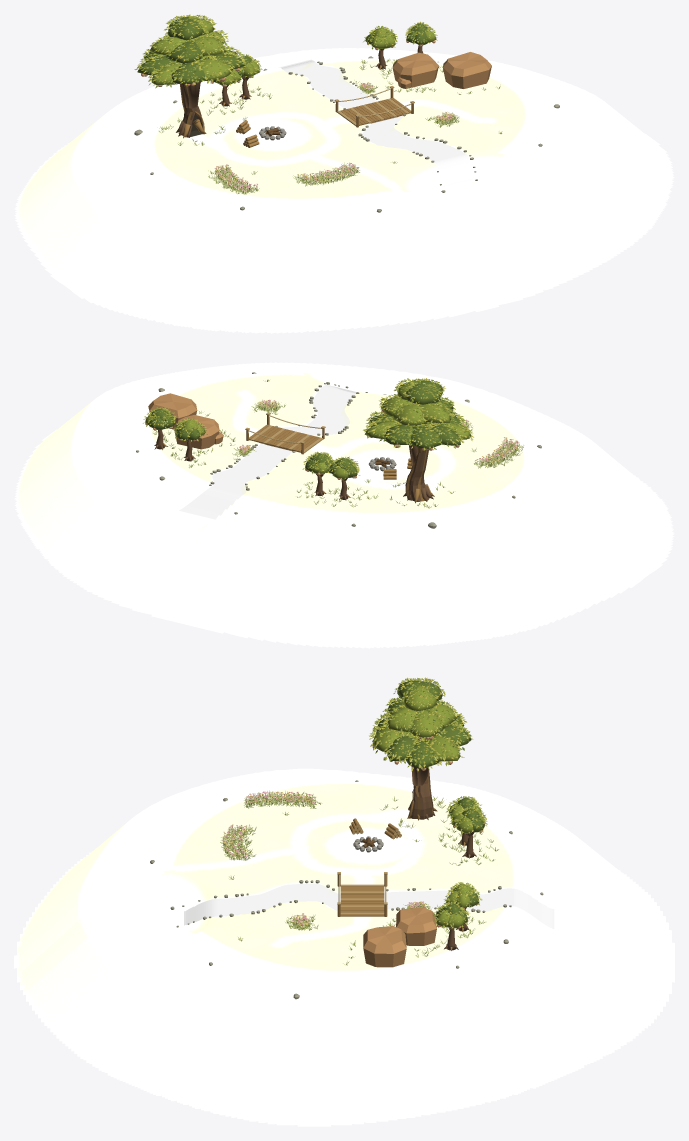
The model's file is ecology-coastal-v2.glb.
3 views of the same model, one above another, from view 1: azimuth 30°, elevation 25°; view 2: azimuth 150°, elevation 25°; view 3: azimuth 270°, elevation 25° (orthographic). The views are drawn at different scales.
Visible parts, largest first — view 1: Coast / continuous turf sand submerged shelf, Water / stream and waterfalls, Landmarks / warm resting rocks, Flora_hero-fruit-tree_leaf, Flora_hero-fruit-tree_leaf_dark, Flora_hero-fruit-tree_leaf_light, Bridge / honey timber deck, Flora_Sparse_Understory_grass, Flora_hero-fruit-tree_leaf_sun, Flora_hero-fruit-tree_bark, Details / creek stones and beach pebbles; view 2: Coast / continuous turf sand submerged shelf, Water / stream and waterfalls, Flora_hero-fruit-tree_leaf, Flora_hero-fruit-tree_leaf_dark, Landmarks / warm resting rocks, Flora_hero-fruit-tree_leaf_light, Bridge / honey timber deck, Flora_hero-fruit-tree_bark, Flora_hero-fruit-tree_leaf_sun, Flora_Sparse_Understory_grass, Details / creek stones and beach pebbles, Bridge / warm worn plank edges; view 3: Coast / continuous turf sand submerged shelf, Water / stream and waterfalls, Flora_hero-fruit-tree_leaf, Landmarks / warm resting rocks, Flora_hero-fruit-tree_leaf_dark, Flora_hero-fruit-tree_leaf_light, Bridge / honey timber deck, Flora_hero-fruit-tree_leaf_sun, Flora_Sparse_Understory_grass, Flora_hero-fruit-tree_bark.
Boxes of the visible parts, x1,y1,x2,y2 form: Coast / continuous turf sand submerged shelf: (14, 48, 674, 333); Water / stream and waterfalls: (280, 60, 473, 186); Landmarks / warm resting rocks: (392, 52, 491, 88); Flora_hero-fruit-tree_leaf: (137, 14, 245, 88); Flora_hero-fruit-tree_leaf_dark: (137, 16, 244, 85); Flora_hero-fruit-tree_leaf_light: (134, 15, 245, 86); Bridge / honey timber deck: (340, 97, 411, 125); Flora_Sparse_Understory_grass: (159, 59, 502, 193); Flora_hero-fruit-tree_leaf_sun: (137, 15, 245, 85); Flora_hero-fruit-tree_bark: (176, 81, 202, 137); Details / creek stones and beach pebbles: (134, 56, 559, 212); Coast / continuous turf sand submerged shelf: (14, 362, 674, 648); Water / stream and waterfalls: (179, 385, 356, 519); Flora_hero-fruit-tree_leaf: (364, 379, 473, 449); Flora_hero-fruit-tree_leaf_dark: (369, 380, 472, 448); Landmarks / warm resting rocks: (148, 393, 223, 449); Flora_hero-fruit-tree_leaf_light: (363, 378, 472, 450); Bridge / honey timber deck: (249, 424, 319, 452); Flora_hero-fruit-tree_bark: (403, 425, 433, 501); Flora_hero-fruit-tree_leaf_sun: (363, 378, 473, 448); Flora_Sparse_Understory_grass: (153, 379, 523, 508); Details / creek stones and beach pebbles: (136, 372, 541, 528); Bridge / warm worn plank edges: (245, 412, 325, 453); Coast / continuous turf sand submerged shelf: (14, 768, 674, 1126); Water / stream and waterfalls: (184, 884, 553, 928); Flora_hero-fruit-tree_leaf: (372, 678, 470, 769); Landmarks / warm resting rocks: (363, 907, 436, 967); Flora_hero-fruit-tree_leaf_dark: (372, 679, 471, 768); Flora_hero-fruit-tree_leaf_light: (369, 677, 471, 769); Bridge / honey timber deck: (340, 886, 384, 916); Flora_hero-fruit-tree_leaf_sun: (369, 677, 473, 771); Flora_Sparse_Understory_grass: (229, 790, 498, 965); Flora_hero-fruit-tree_bark: (408, 736, 435, 819).
Bounding box in the file's own units: 46.08 × 14.08 × 39.42.
Materials: 23 (1 with a texture image).
